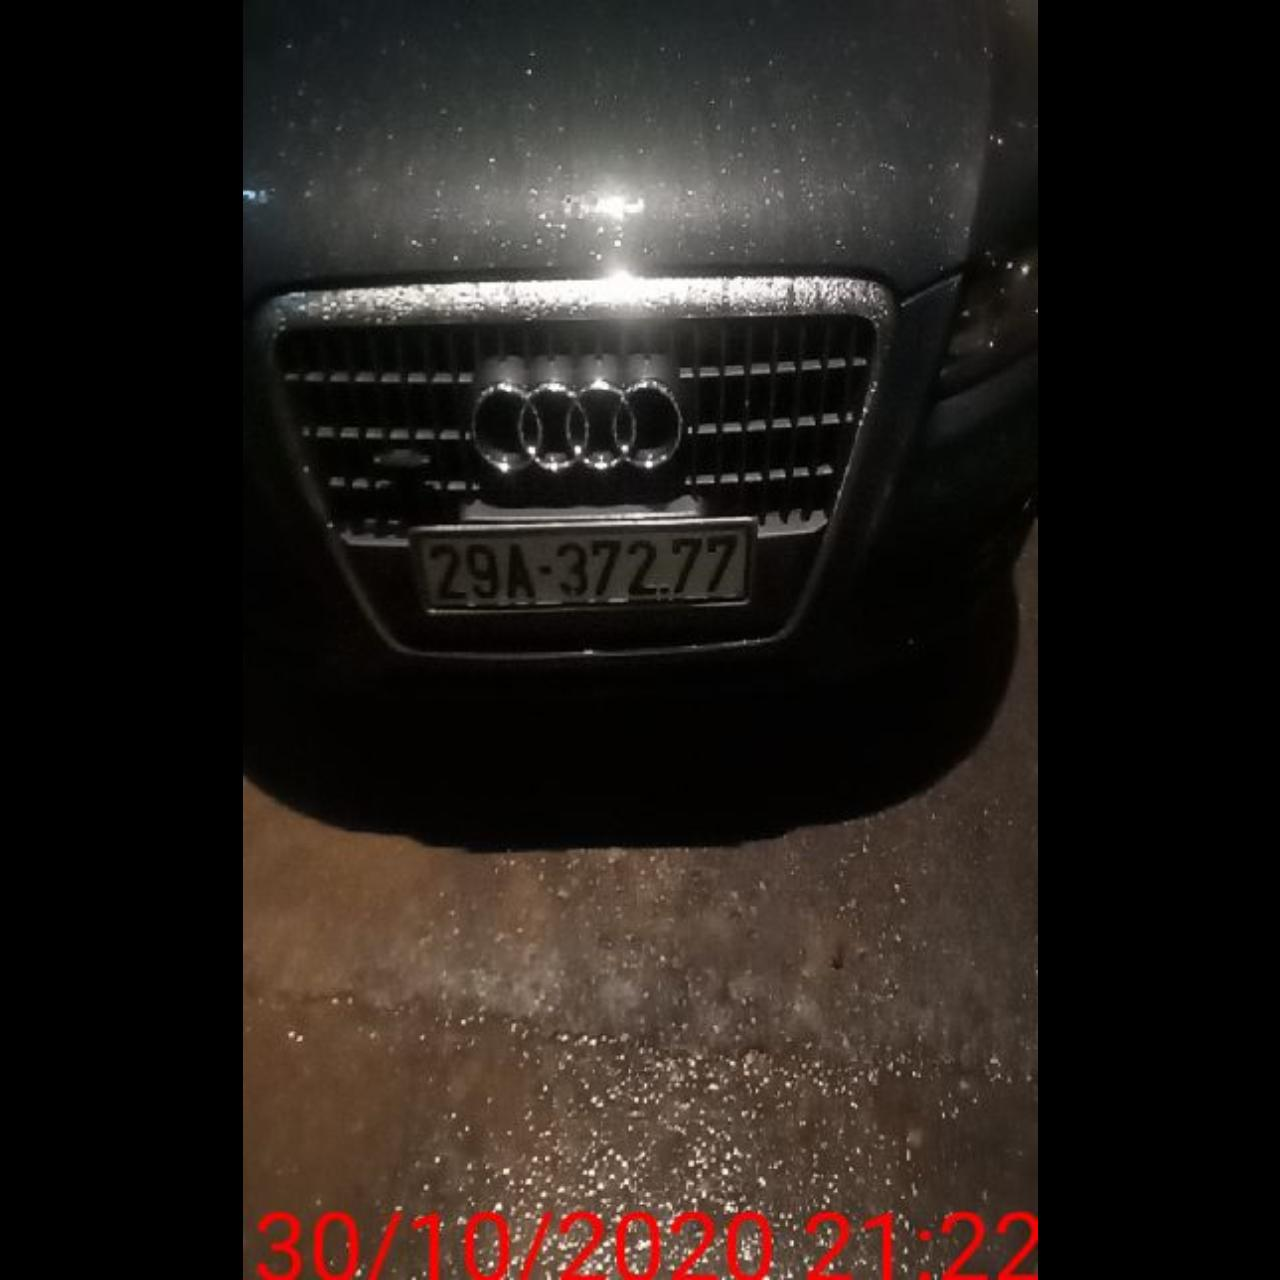bienso: (407, 514, 758, 622)
